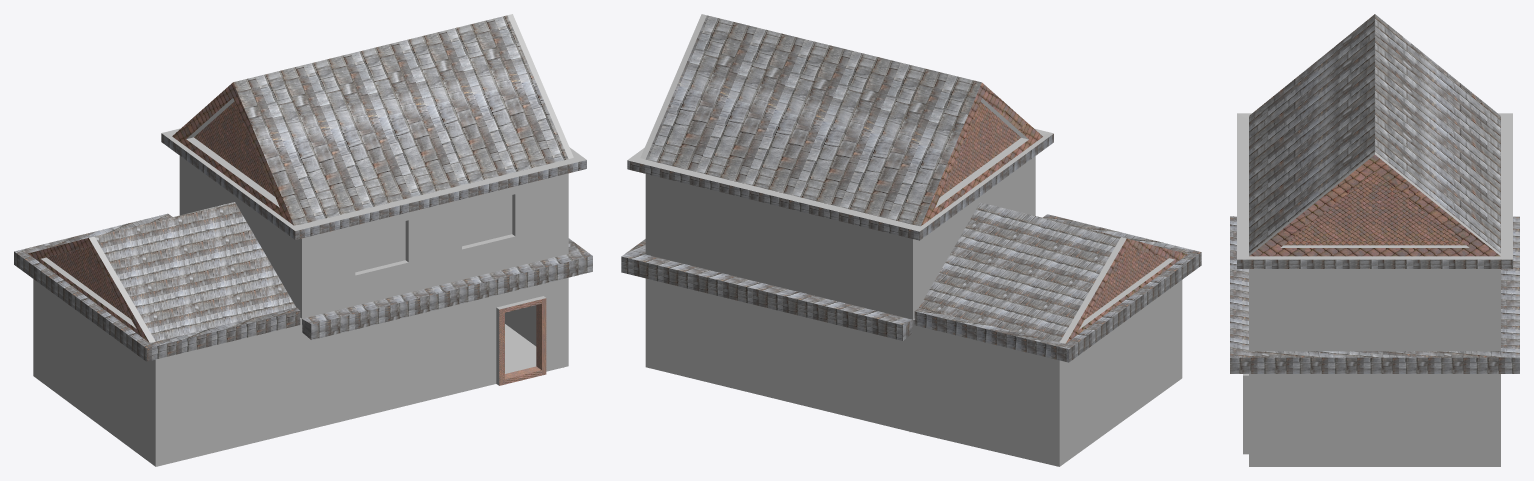
File: house3.fbx
3 views of the same model, side by side, from view 1: azimuth 30°, elevation 25°; view 2: azimuth 150°, elevation 25°; view 3: azimuth 270°, elevation 25° (orthographic). The views are drawn at different scales.
Visible parts, largest first — view 1: House, 平面.001, 平面.004; view 2: House; view 3: House.
Part boxes in pixels (x1,y1,x2,y2): House: (14, 14, 592, 466); 平面.001: (355, 195, 512, 272); 平面.004: (505, 305, 536, 346); House: (621, 14, 1201, 466); House: (1230, 14, 1519, 466).
Bounding box in the file's own units: 2485 × 1648 × 1371.
